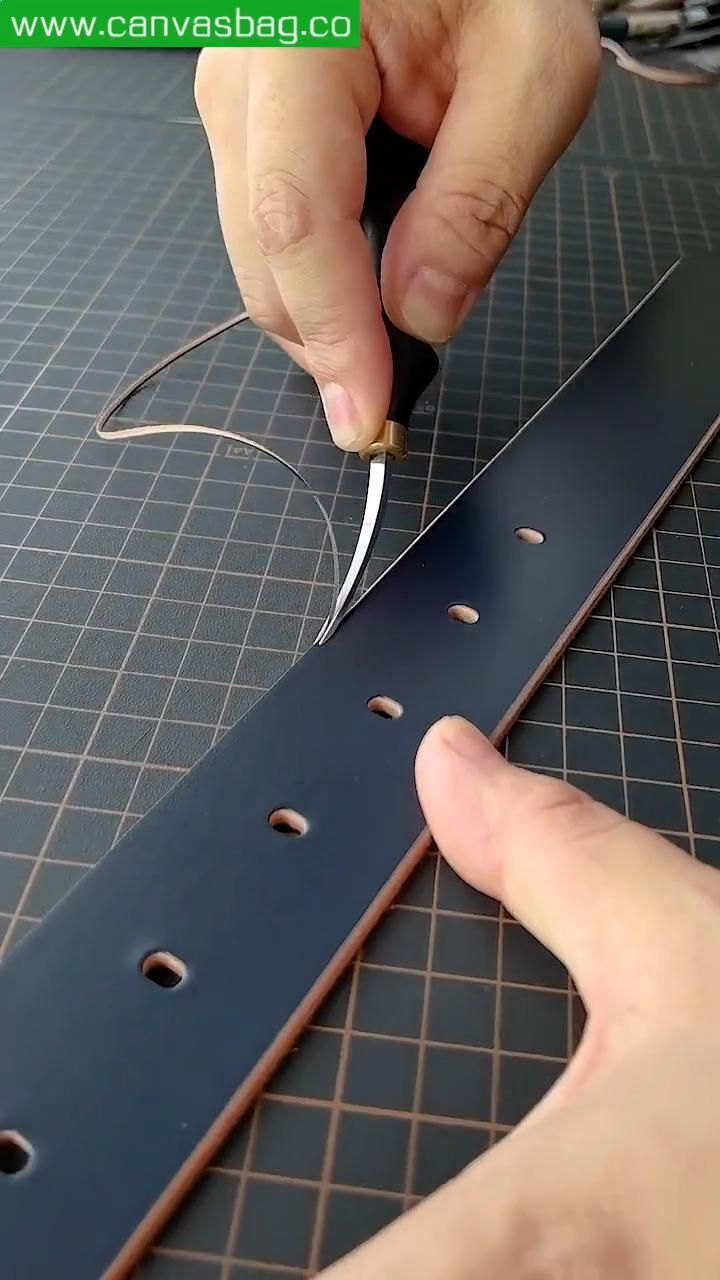cuero: (2, 257, 720, 1280)
